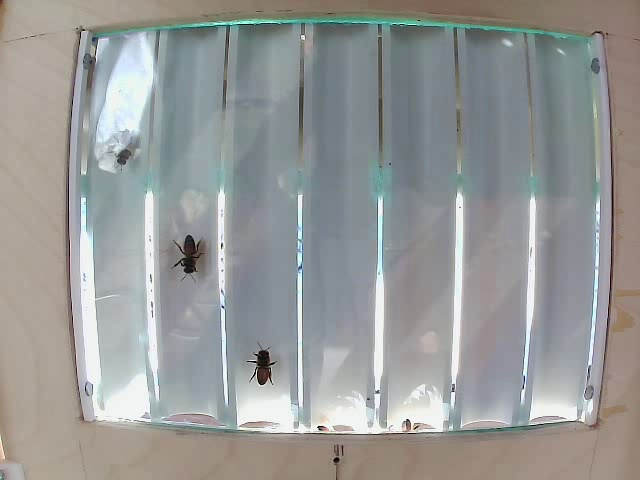bee: (167, 228, 204, 290), (246, 347, 281, 391)
